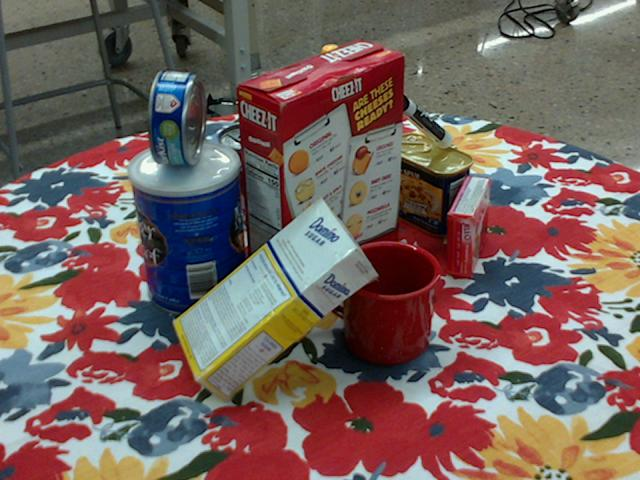cracker_box: (235, 40, 406, 305)
gelatin_box: (447, 175, 492, 278)
large_marker: (386, 86, 454, 147)
master_chef_can: (129, 140, 246, 318)
mug: (319, 239, 441, 364)
mustard_bottle: (299, 45, 373, 222)
potted_meat_can: (385, 132, 475, 236)
sugar_box: (173, 198, 377, 405)
tomato_soup_can: (219, 122, 285, 231)
tuna_fish_can: (148, 69, 204, 165)
